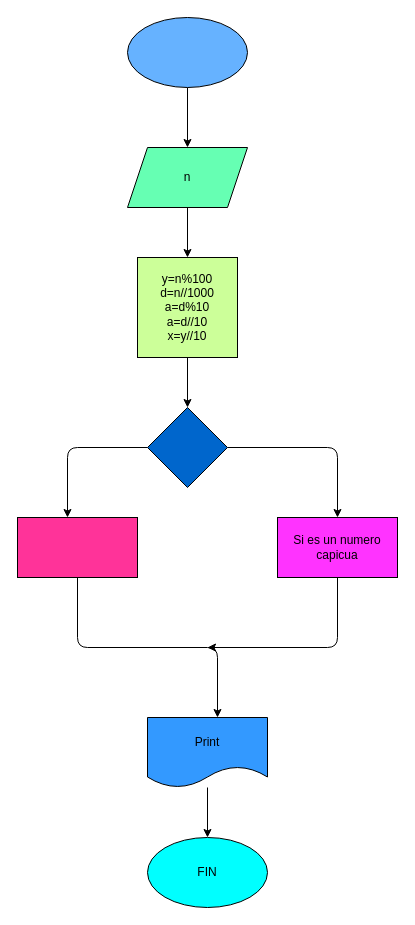
Some shapes in this 415 by 925 pixel diagram are drawn without their labels. Here are the shapes that lost their labels. From the top down, the centre of each, then its label:
At (x=187, y=52): "INICIO".
At (x=187, y=447): "x==f and b==a".
At (x=77, y=547): "No es un numero capicua".
